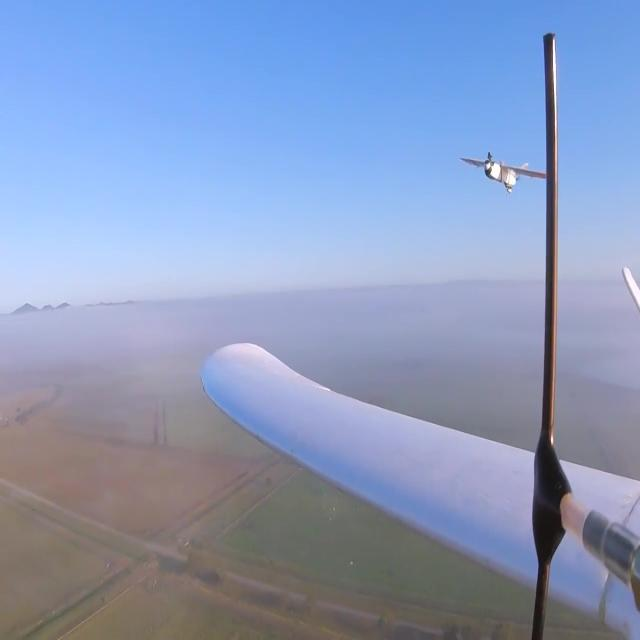iha: (491, 152, 514, 196)
